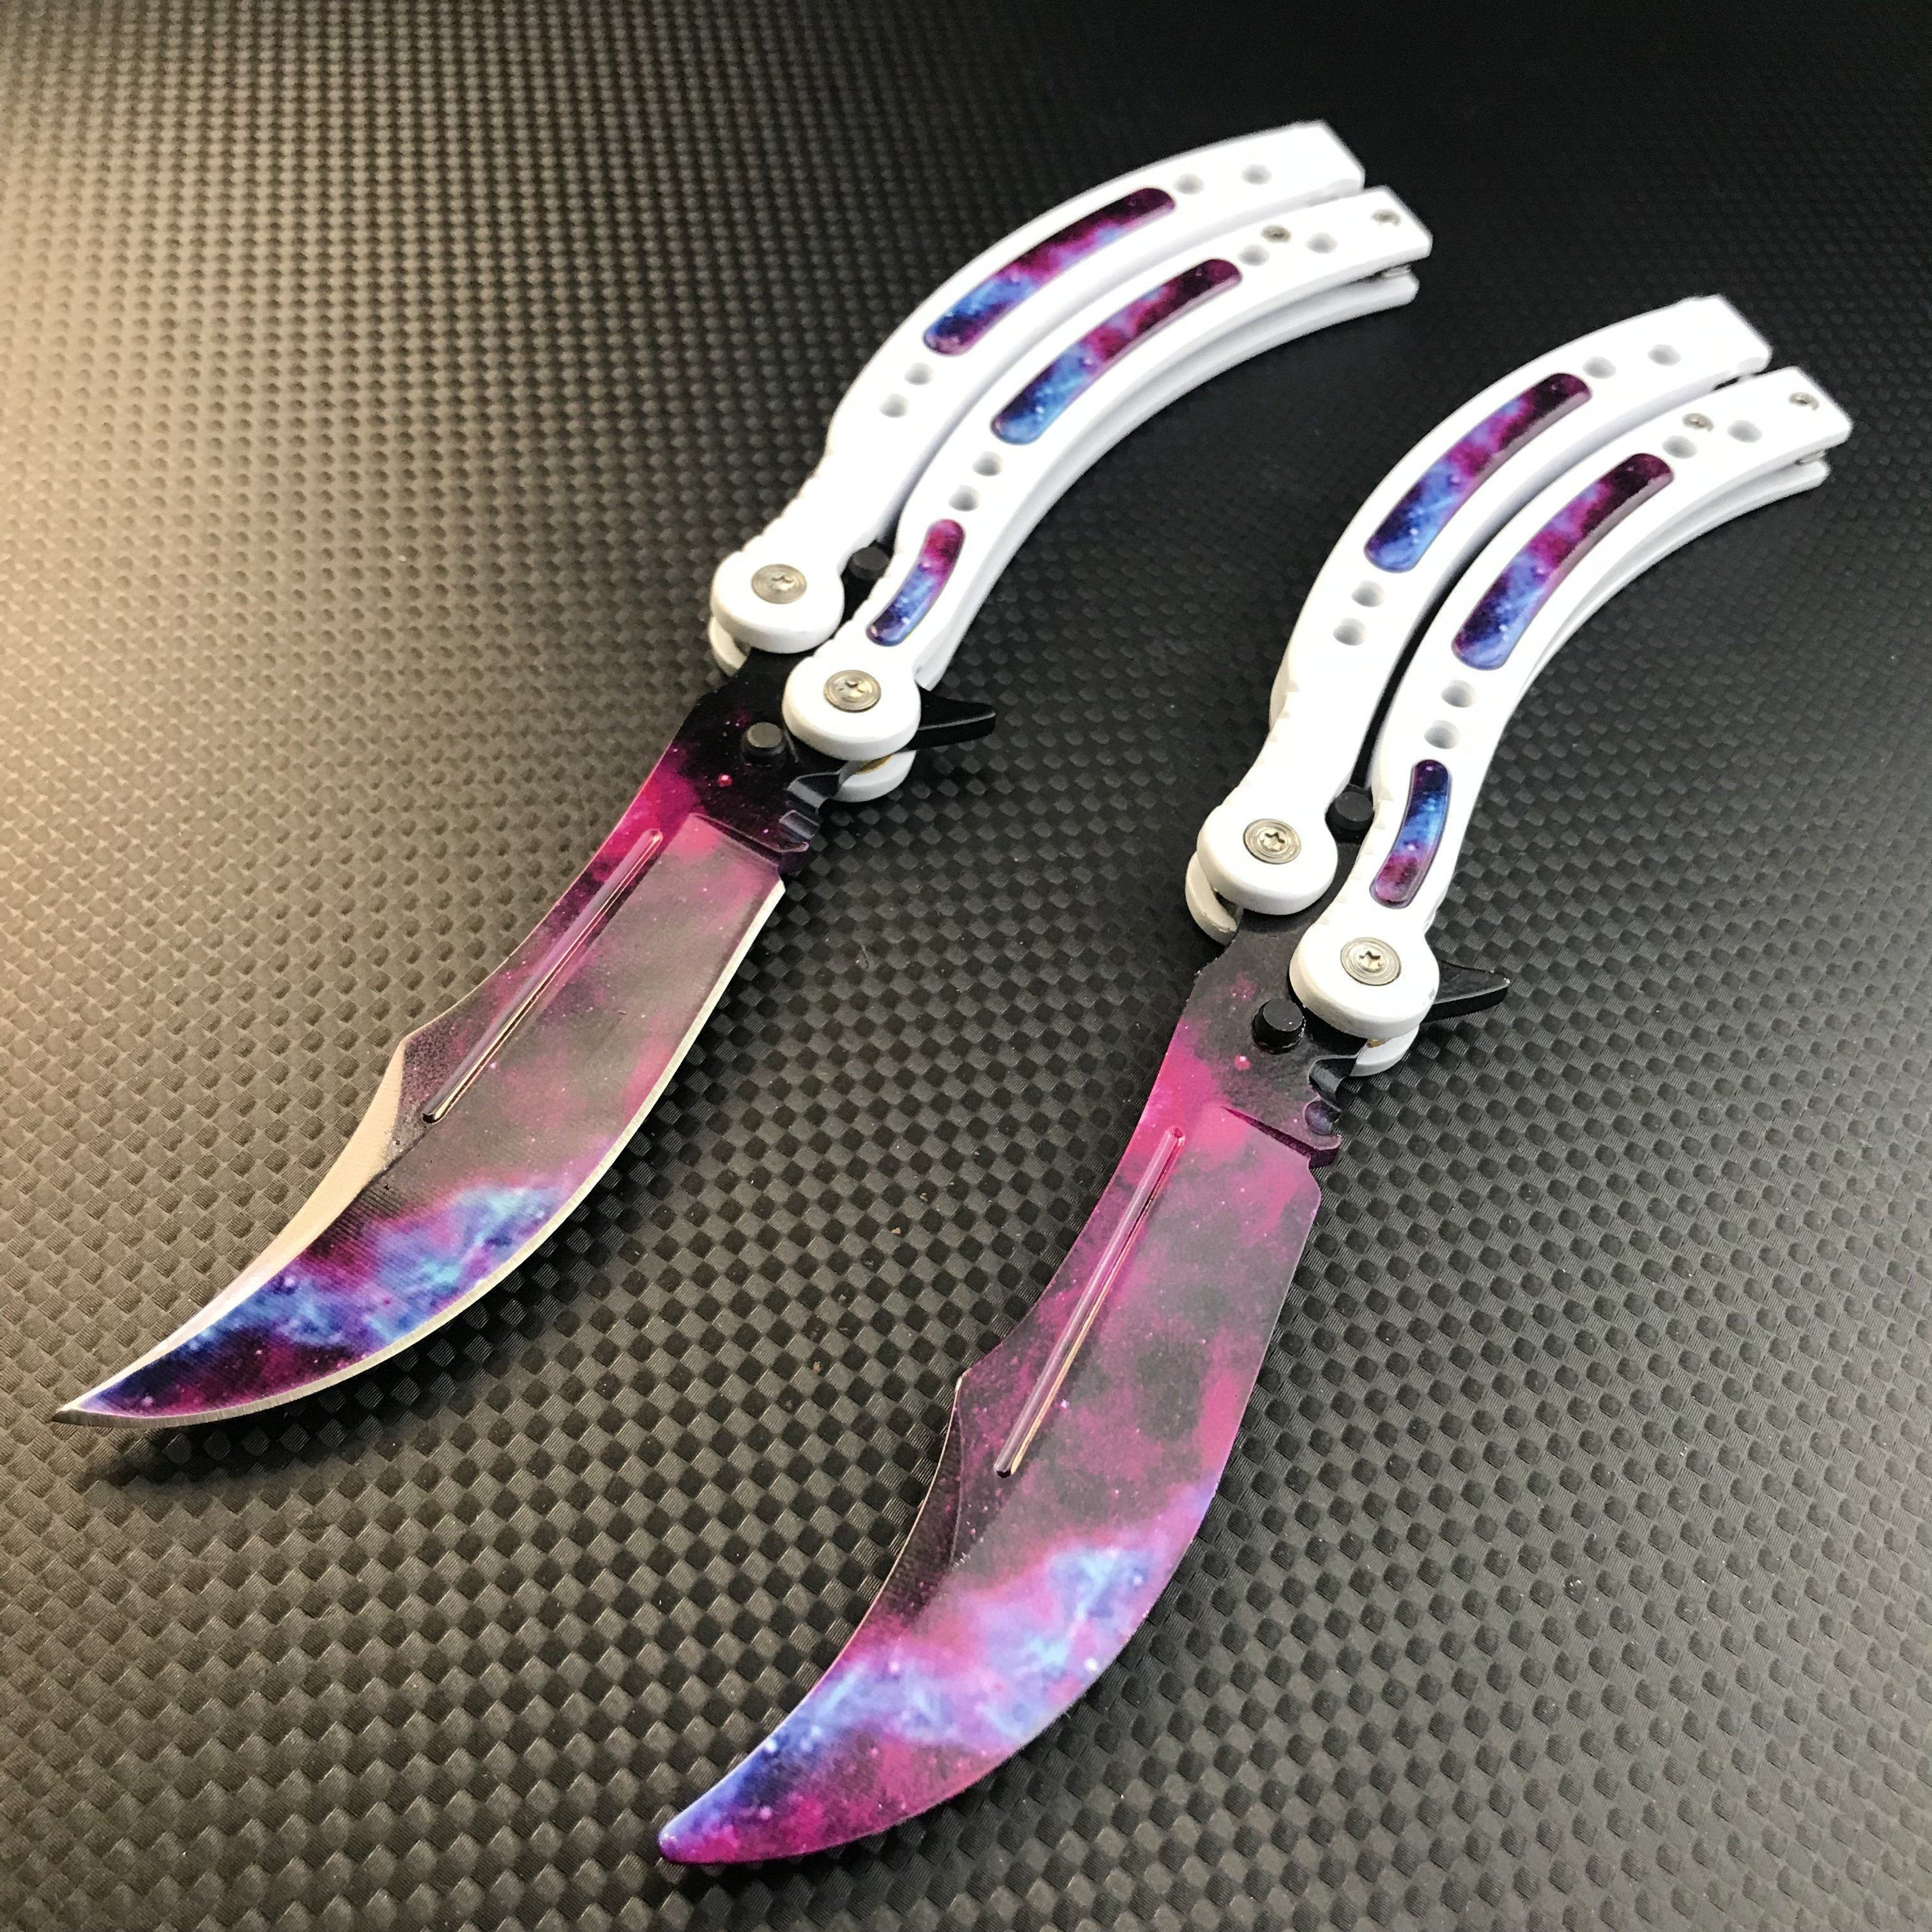knife: (699, 262, 1882, 1881)
